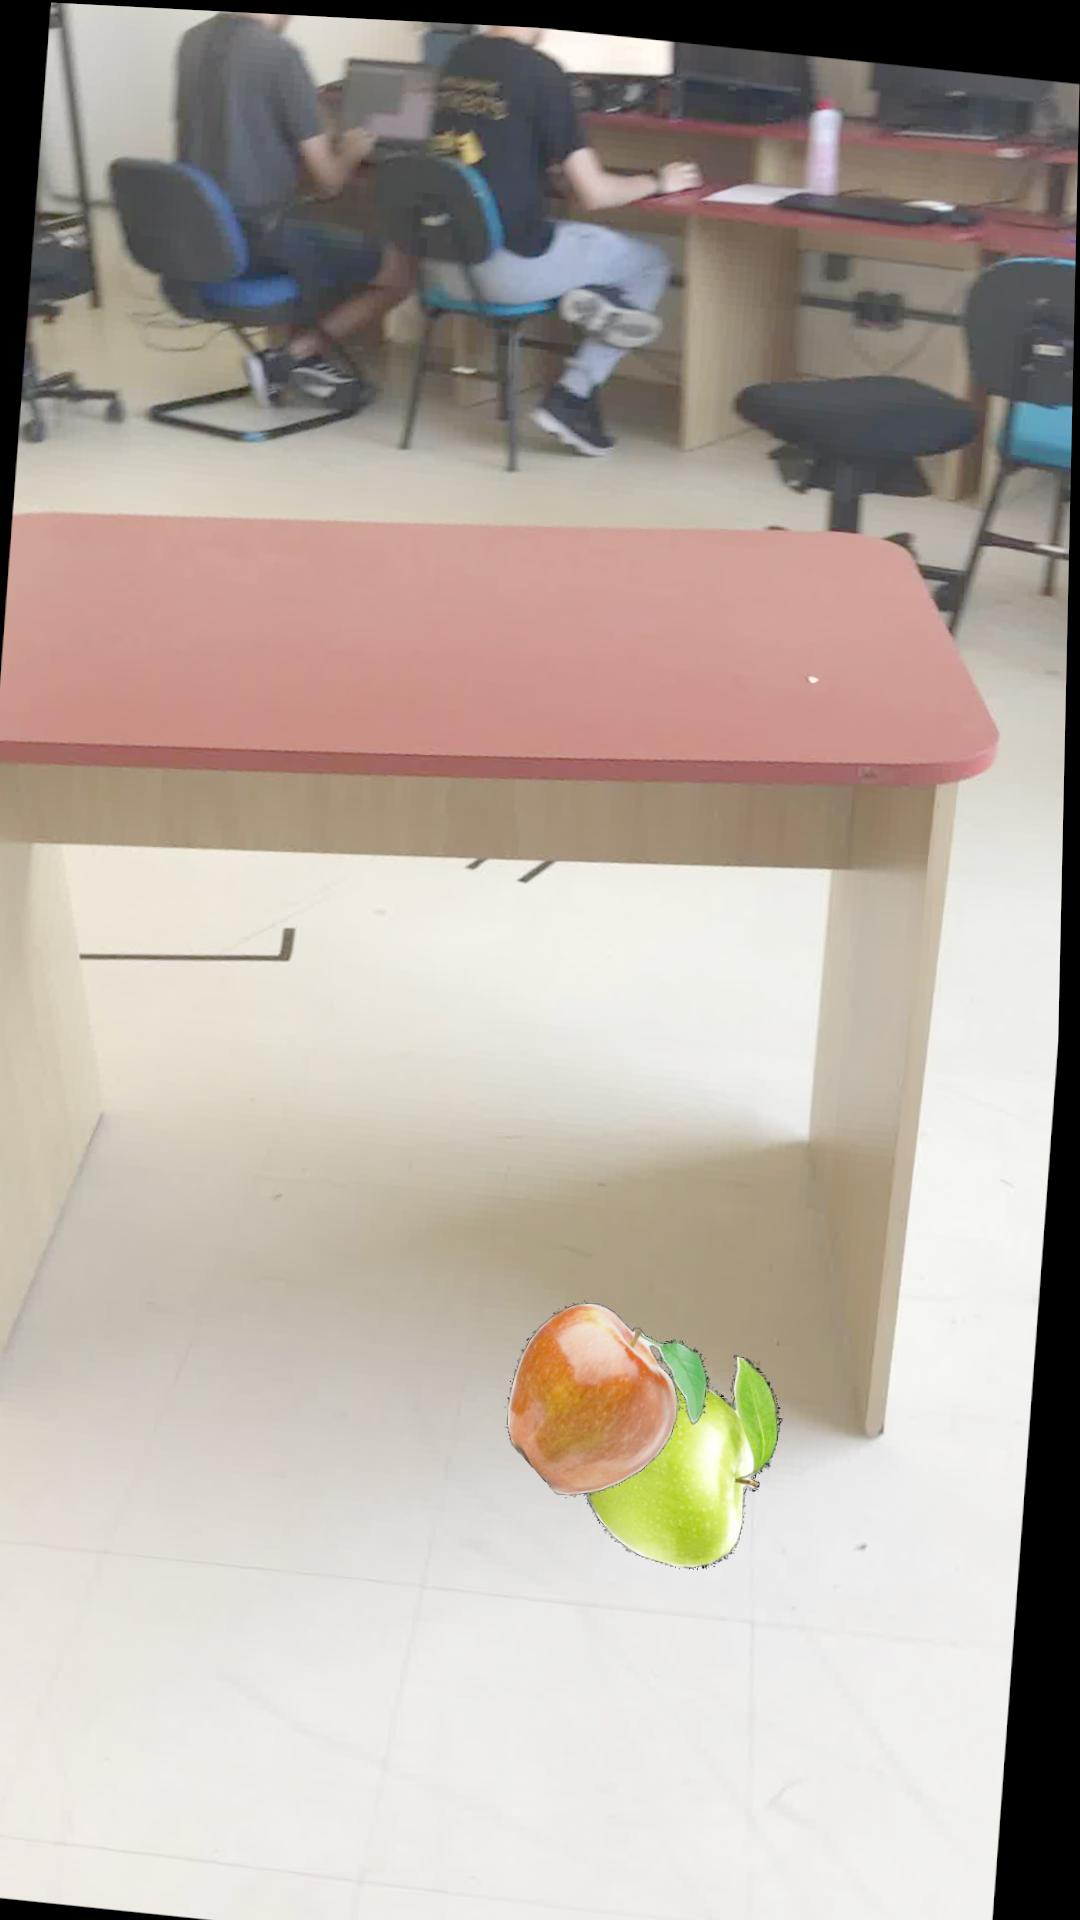apple: (510, 1292, 712, 1486)
green apple: (589, 1344, 786, 1559)
